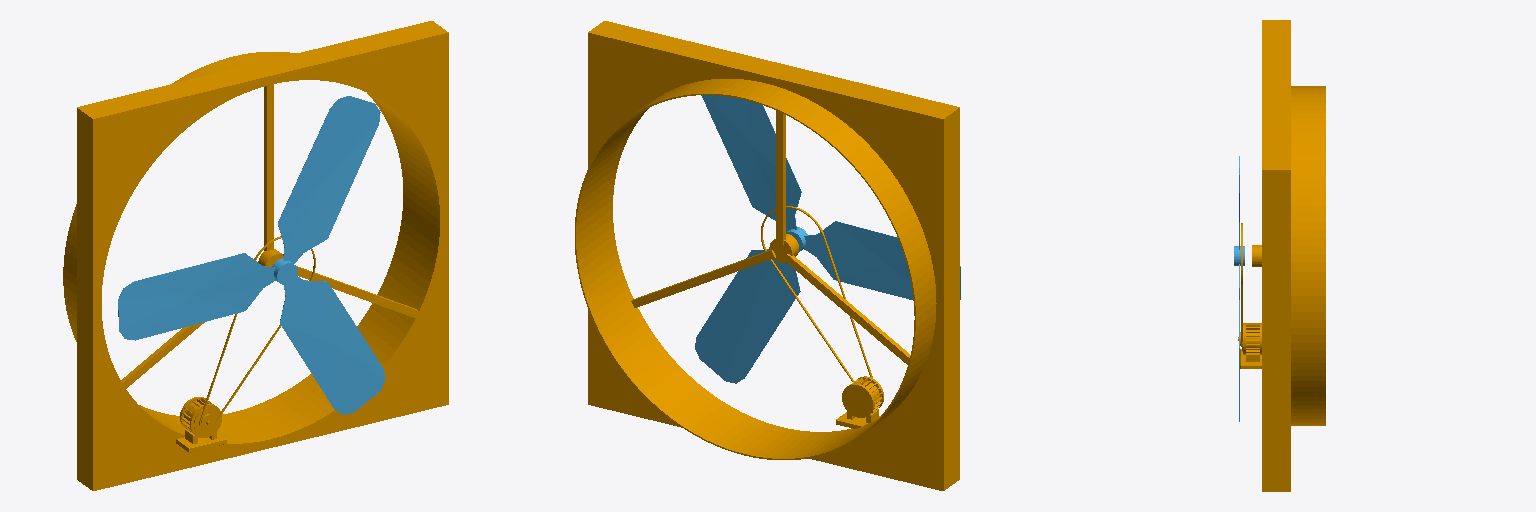
URDF robot description (101220):
<?xml version='1.0' encoding='utf-8'?>
<robot name="101220">
  <link name="fixed_root">
    <visual name="fixed_root_visual">
      <origin xyz="0 0 0" rpy="0 0 0" />
      <geometry>
        <mesh filename="meshes/fixed_root.obj" />
      </geometry>
    </visual>
  </link>
  <link name="moving_group">
    <visual name="moving_group_visual">
      <origin xyz="0 0 0" rpy="0 0 0" />
      <geometry>
        <mesh filename="meshes/moving_group.obj" />
      </geometry>
    </visual>
  </link>
  <joint name="joint_01" type="revolute">
    <parent link="fixed_root" />
    <child link="moving_group" />
    <origin xyz="0 -0.0329999998212 0.5" rpy="0 -0 0" />
    <axis xyz="0 1 0" />
    <limit lower="-0.261799387799" upper="0.261799387799" effort="1" velocity="1" />
  </joint>
</robot>

--- Facts derived from the render (not from the file) ---
The picture shows the robot from 3 angles, left to right: view 1: azimuth 30°, elevation 25°; view 2: azimuth 150°, elevation 25°; view 3: azimuth 270°, elevation 25°; orthographic projection.
Model 101220 with 2 links and 1 joints (1 revolute), rooted at fixed_root, posed every joint at zero.
Links seen in each view (by area): view 1: fixed_root, moving_group; view 2: fixed_root, moving_group; view 3: fixed_root.
Boxes of the visible links, bbox=[...] form: fixed_root: bbox=[63, 21, 448, 490]; moving_group: bbox=[118, 96, 385, 414]; fixed_root: bbox=[575, 21, 959, 490]; moving_group: bbox=[695, 95, 960, 383]; fixed_root: bbox=[1238, 20, 1325, 491].
Size in the robot's own frame: 1 by 0.2605 by 1 metres.
Meshes: 2 distinct files referenced, 2 mesh visuals loaded (2 OBJ).
